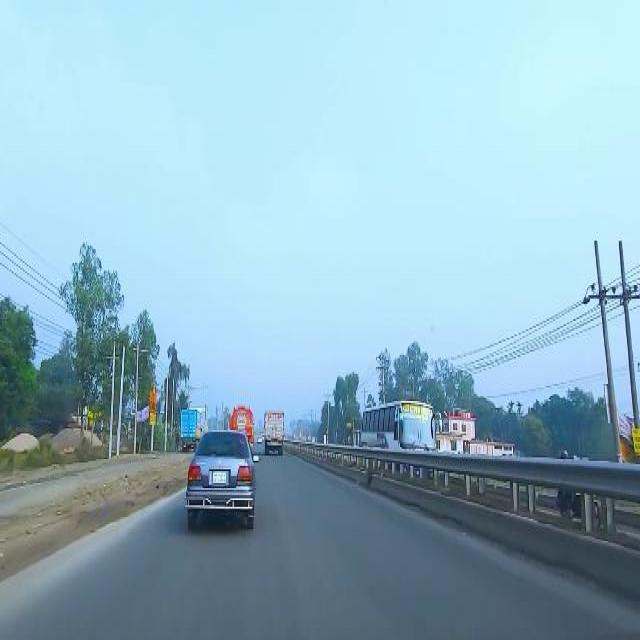vehicle: (185, 429, 259, 528), (360, 401, 443, 449), (266, 408, 285, 456), (181, 406, 200, 452), (231, 404, 256, 436)
